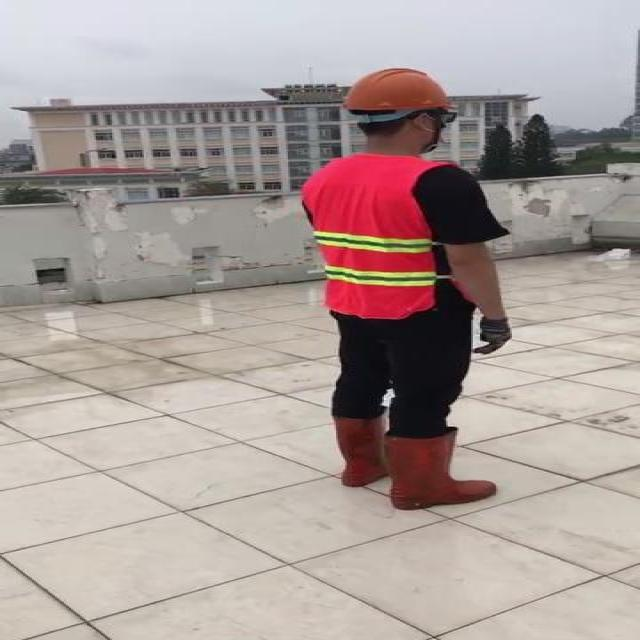boots: (380, 427, 500, 513), (325, 412, 384, 492)
hand_glove: (473, 315, 515, 356)
head_helmet: (339, 65, 454, 113)
person: (280, 59, 531, 514)
vest: (302, 150, 439, 319)
